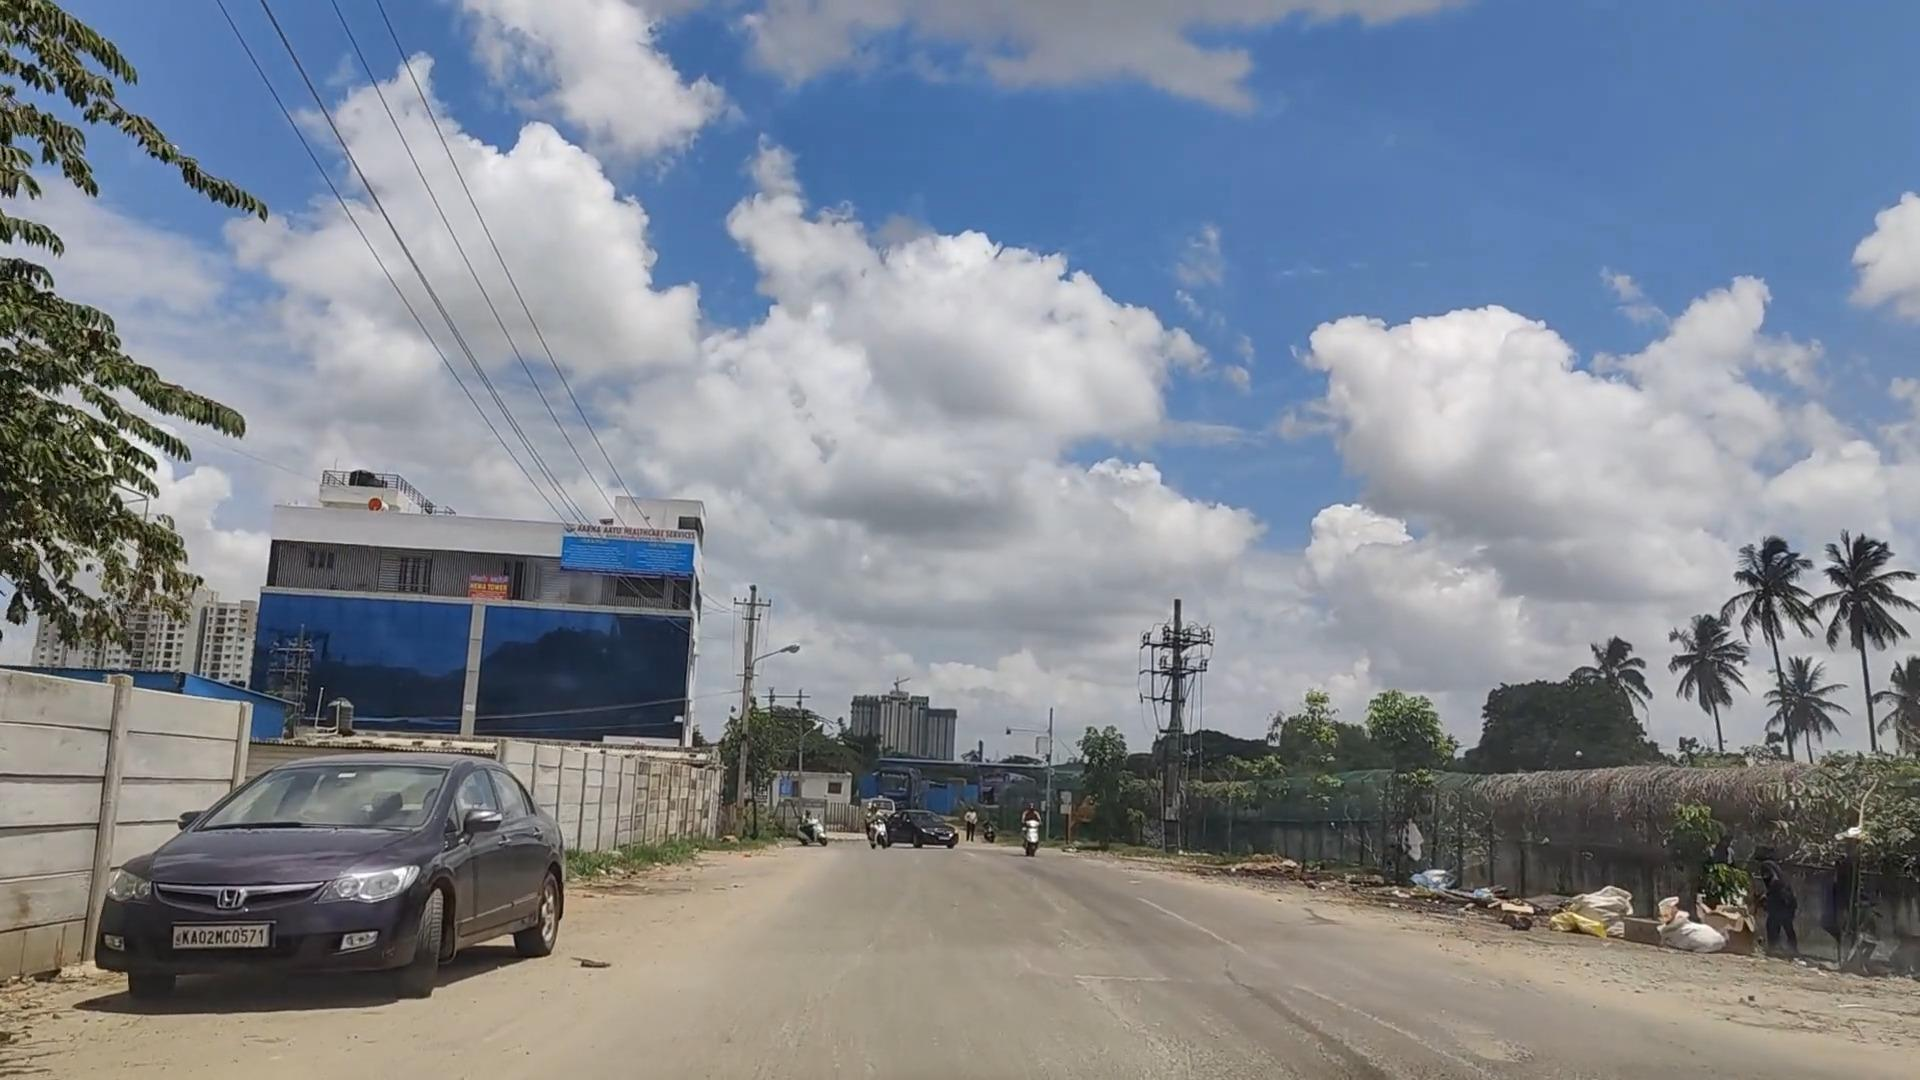LMV: (125, 688, 583, 1033)
RoadDamages: (1015, 943, 1588, 1080)
